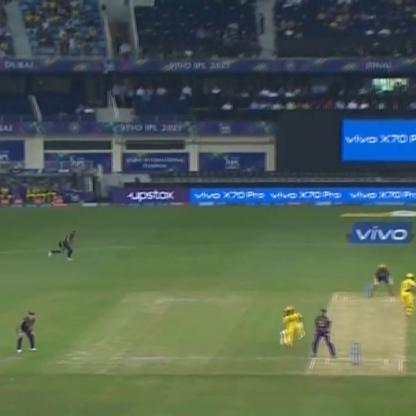pitch: (306, 293, 411, 379)
